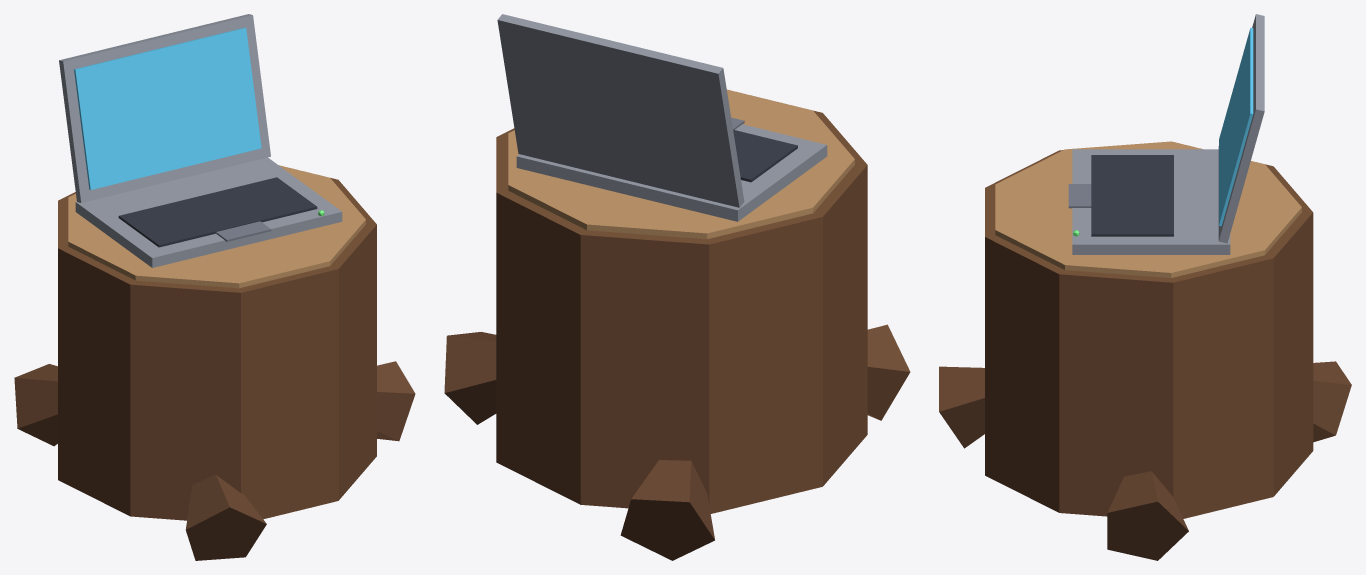
File: computador.glb
3 views of the same model, side by side, from view 1: azimuth 30°, elevation 25°; view 2: azimuth 150°, elevation 25°; view 3: azimuth 270°, elevation 25° (orthographic). The views are drawn at different scales.
Visible parts, largest first — view 1: toco, tela, toco_topo, base, tampa, teclado, raiz_2, raiz_1, raiz_0, touchpad; view 2: toco, tampa, toco_topo, raiz_1, base, raiz_0, raiz_2, teclado; view 3: toco, toco_topo, base, teclado, raiz_0, tela, raiz_2, tampa, raiz_1, touchpad.
Part boxes in pixels (x1,y1,x2,y2): toco: [58, 177, 376, 520]; tela: [74, 27, 261, 189]; toco_topo: [68, 165, 365, 288]; base: [75, 157, 342, 267]; tampa: [59, 14, 270, 202]; teclado: [118, 177, 317, 247]; raiz_2: [185, 474, 266, 560]; raiz_1: [14, 364, 57, 446]; raiz_0: [377, 361, 415, 441]; touchpad: [216, 221, 271, 241]; toco: [496, 110, 867, 513]; tampa: [497, 14, 744, 207]; toco_topo: [508, 89, 854, 239]; raiz_1: [620, 460, 714, 560]; base: [516, 124, 827, 221]; raiz_0: [444, 332, 496, 424]; raiz_2: [867, 324, 910, 420]; teclado: [733, 129, 797, 182]; toco: [985, 150, 1313, 518]; toco_topo: [995, 141, 1301, 277]; base: [1072, 149, 1230, 254]; teclado: [1091, 155, 1173, 236]; raiz_0: [1107, 471, 1188, 560]; tela: [1219, 27, 1253, 226]; raiz_2: [939, 366, 984, 448]; tampa: [1218, 14, 1264, 243]; raiz_1: [1313, 361, 1351, 442]; touchpad: [1068, 184, 1091, 208].
Size of the model in its own units: 1.04 by 1.23 by 1.1.
